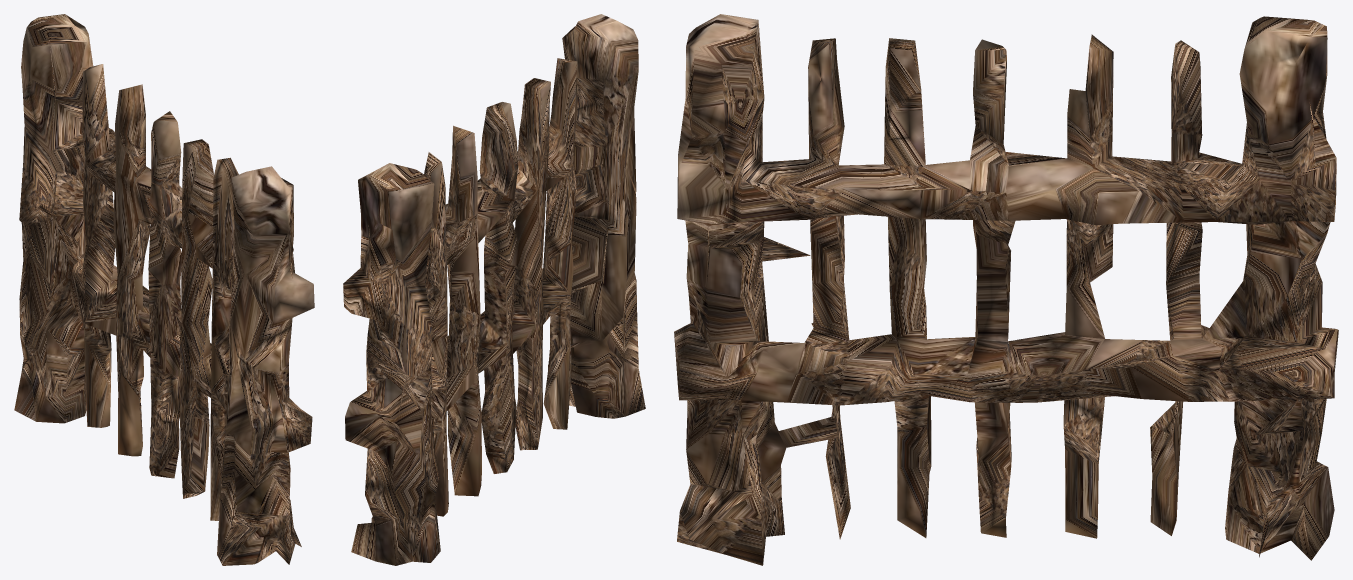
The model's file is fence-low.glb.
3 views of the same model, side by side, from view 1: azimuth 30°, elevation 25°; view 2: azimuth 150°, elevation 25°; view 3: azimuth 270°, elevation 25° (orthographic). The views are drawn at different scales.
Bounding box in the file's own units: 0.1924 × 0.8492 × 0.9898.
Materials: 1 (1 with a texture image).
